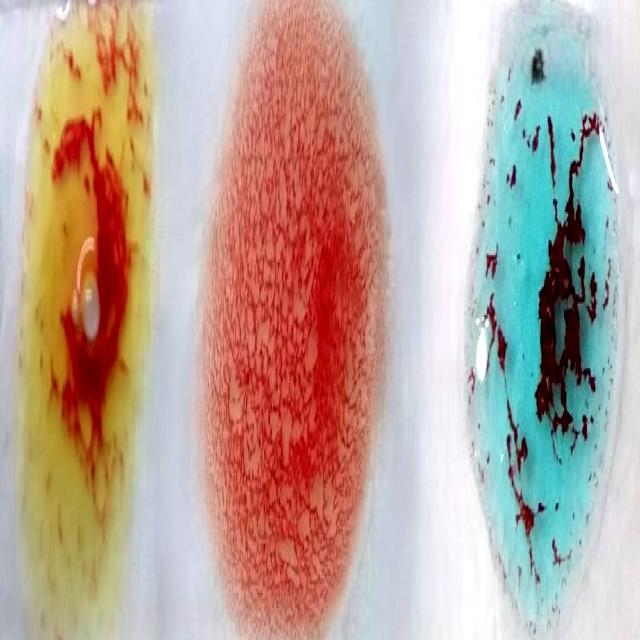A: (470, 28, 626, 640)
B: (20, 26, 146, 596)
D: (211, 8, 388, 628)
